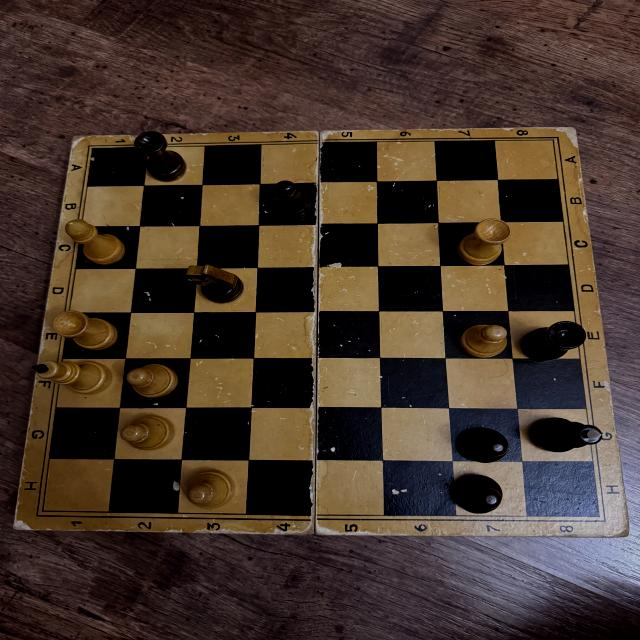black-king: (528, 415, 604, 452)
black-knight: (185, 264, 245, 306)
black-pawn: (268, 178, 315, 223), (456, 425, 510, 464), (452, 473, 503, 514)
black-rook: (133, 130, 187, 181), (521, 320, 588, 361)
white-bishop: (65, 217, 126, 266)
white-king: (29, 359, 114, 395)
white-pawn: (182, 469, 235, 509), (121, 414, 176, 449), (124, 364, 179, 397), (460, 322, 509, 358)
white-rook: (50, 311, 124, 351), (456, 216, 508, 268)
